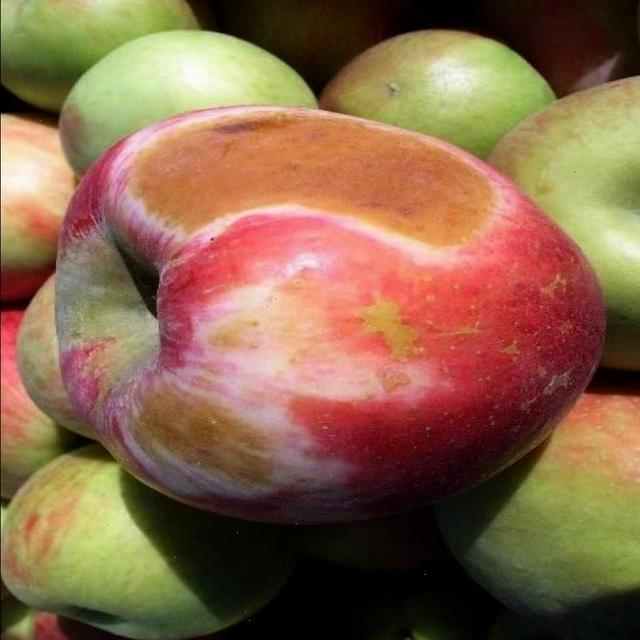Sunscald Fruit: (77, 69, 346, 176)
